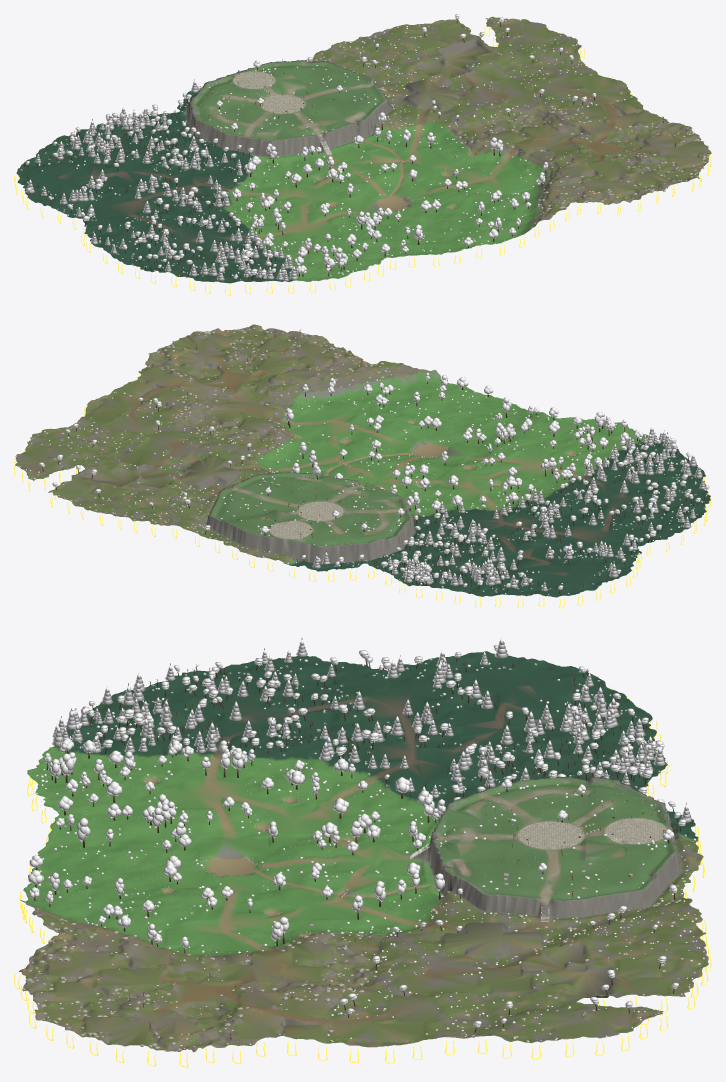
Rendered from orsane.glb.
3 views of the same model, one above another, from view 1: azimuth 30°, elevation 25°; view 2: azimuth 150°, elevation 25°; view 3: azimuth 270°, elevation 25° (orthographic). The views are drawn at different scales.
Parts seen in each view (by area): view 1: mo_sol_jeu, mo_agrafes_reunies, mo_sol_pave_0, mo_sol_pave_1; view 2: mo_sol_jeu, mo_agrafes_reunies, mo_sol_pave_0, mo_sol_pave_1; view 3: mo_sol_jeu, mo_agrafes_reunies, mo_sol_pave_0, mo_sol_pave_1.
Part boxes in pixels (bbox=[...]): mo_sol_jeu: bbox=[16, 16, 711, 283]; mo_agrafes_reunies: bbox=[14, 19, 711, 295]; mo_sol_pave_0: bbox=[260, 94, 305, 113]; mo_sol_pave_1: bbox=[233, 71, 274, 88]; mo_sol_jeu: bbox=[15, 324, 710, 597]; mo_agrafes_reunies: bbox=[14, 327, 711, 608]; mo_sol_pave_0: bbox=[297, 501, 343, 520]; mo_sol_pave_1: bbox=[270, 521, 312, 539]; mo_sol_jeu: bbox=[19, 651, 708, 1052]; mo_agrafes_reunies: bbox=[14, 686, 711, 1067]; mo_sol_pave_0: bbox=[518, 821, 584, 849]; mo_sol_pave_1: bbox=[605, 818, 666, 844].
Bounding box in the file's own units: 418 × 30.91 × 302.
